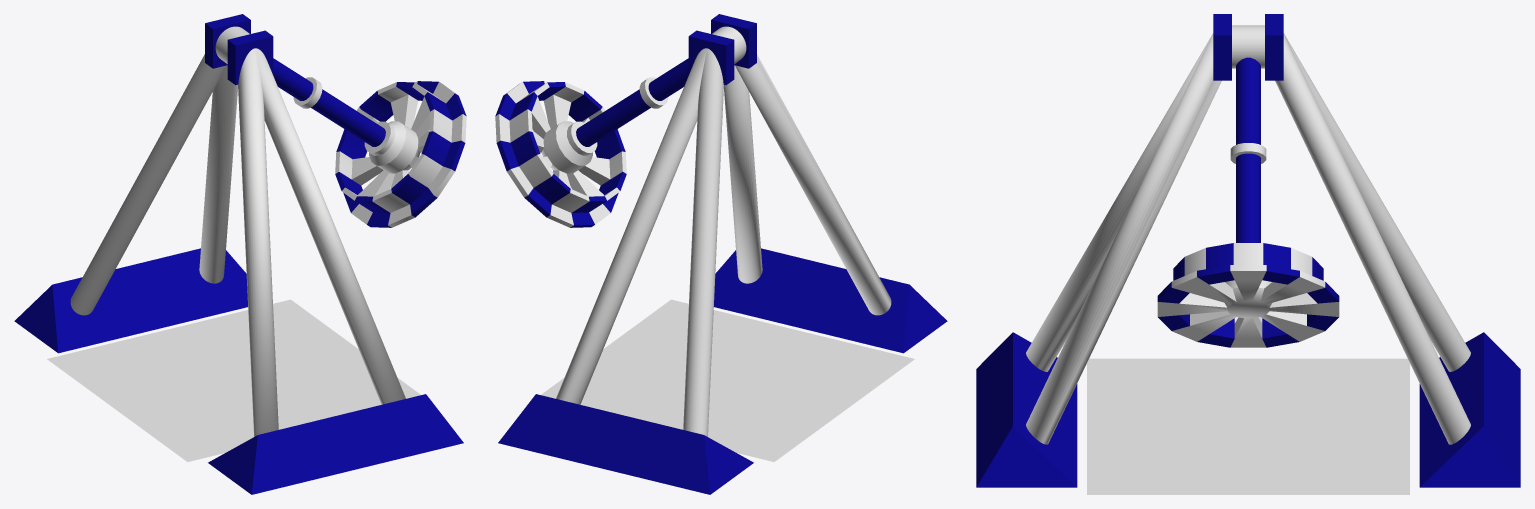
File: Hammer.glb
3 views of the same model, side by side, from view 1: azimuth 30°, elevation 25°; view 2: azimuth 150°, elevation 25°; view 3: azimuth 270°, elevation 25° (orthographic). The views are drawn at different scales.
Visible parts, largest first — view 1: Cylinder.003, Plane, Cube.001, Cylinder, Cylinder.002, Cube, Cylinder.001; view 2: Cylinder.003, Plane, Cube.001, Cylinder, Cylinder.002, Cube, Cylinder.001; view 3: Plane, Cylinder.003, Cube.001, Cylinder, Cylinder.002, Cube, Cylinder.001.
Boxes of the visible parts, left/top/right/bottom form: Cylinder.003: left=70, top=48, right=405, bottom=436; Plane: left=47, top=299, right=420, bottom=461; Cube.001: left=14, top=248, right=463, bottom=494; Cylinder: left=335, top=81, right=466, bottom=227; Cylinder.002: left=273, top=58, right=385, bottom=146; Cube: left=205, top=14, right=273, bottom=85; Cylinder.001: left=215, top=26, right=249, bottom=63; Cylinder.003: left=556, top=48, right=891, bottom=436; Plane: left=541, top=299, right=914, bottom=461; Cube.001: left=498, top=248, right=947, bottom=494; Cylinder: left=495, top=81, right=626, bottom=227; Cylinder.002: left=576, top=58, right=688, bottom=146; Cube: left=688, top=14, right=756, bottom=85; Cylinder.001: left=712, top=26, right=746, bottom=63; Plane: left=1087, top=358, right=1409, bottom=494; Cylinder.003: left=1026, top=33, right=1470, bottom=444; Cube.001: left=976, top=332, right=1520, bottom=487; Cylinder: left=1157, top=243, right=1339, bottom=347; Cylinder.002: left=1230, top=57, right=1266, bottom=242; Cube: left=1213, top=14, right=1283, bottom=80; Cylinder.001: left=1232, top=25, right=1264, bottom=68.
Size of what is drawn, in the model's own units: 95.42 by 96.24 by 118.
